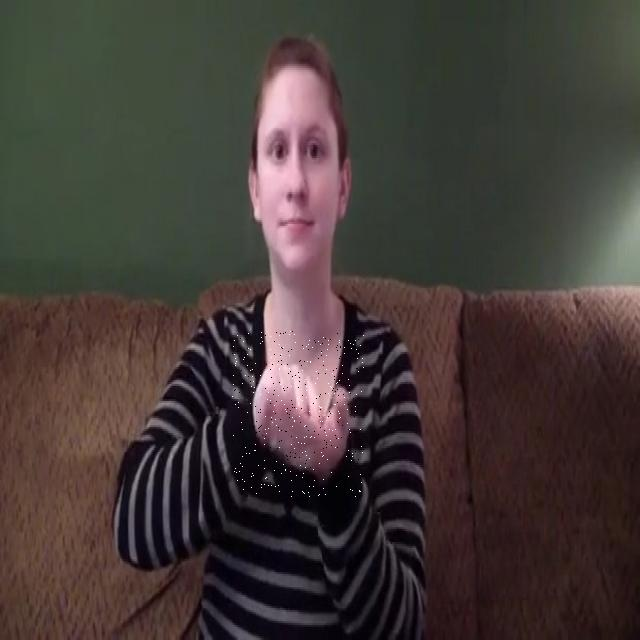chicken: (232, 331, 364, 497)
